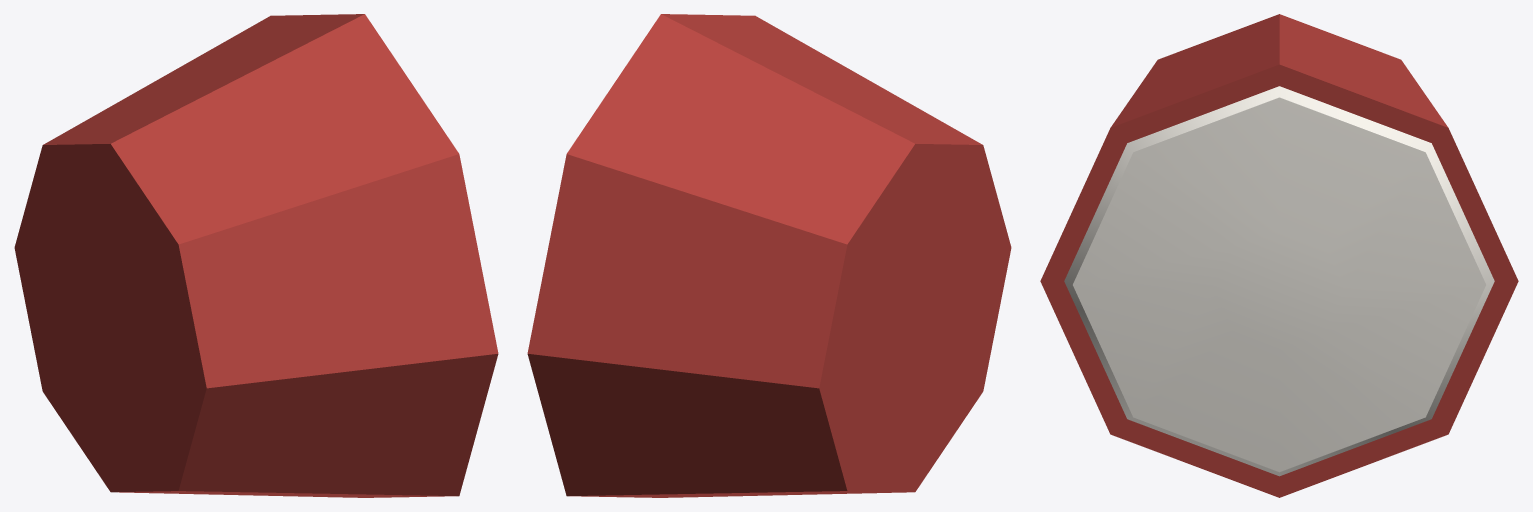
The model's file is bucket_lod2.glb.
The picture shows the model from 3 angles, left to right: view 1: azimuth 30°, elevation 25°; view 2: azimuth 150°, elevation 25°; view 3: azimuth 270°, elevation 25°; orthographic projection. The views are drawn at different scales.
Parts seen in each view (by area): view 1: bucket_lod2; view 2: bucket_lod2; view 3: bucket_lod2.
Part boxes in pixels (bbox=[...]): bucket_lod2: bbox=[14, 14, 498, 497]; bucket_lod2: bbox=[527, 14, 1011, 497]; bucket_lod2: bbox=[1040, 14, 1518, 497].
Size of the model in its own units: 1.18 by 2 by 2.
